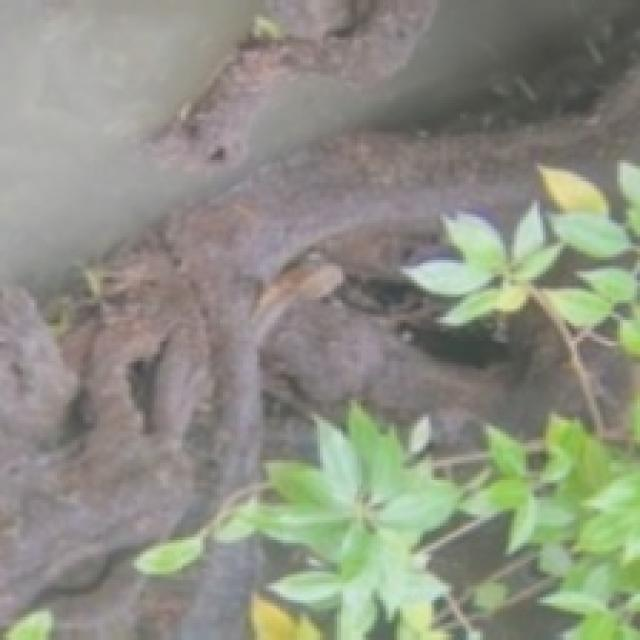king cobra: (0, 0, 637, 637), (431, 520, 506, 631), (480, 594, 569, 637)
